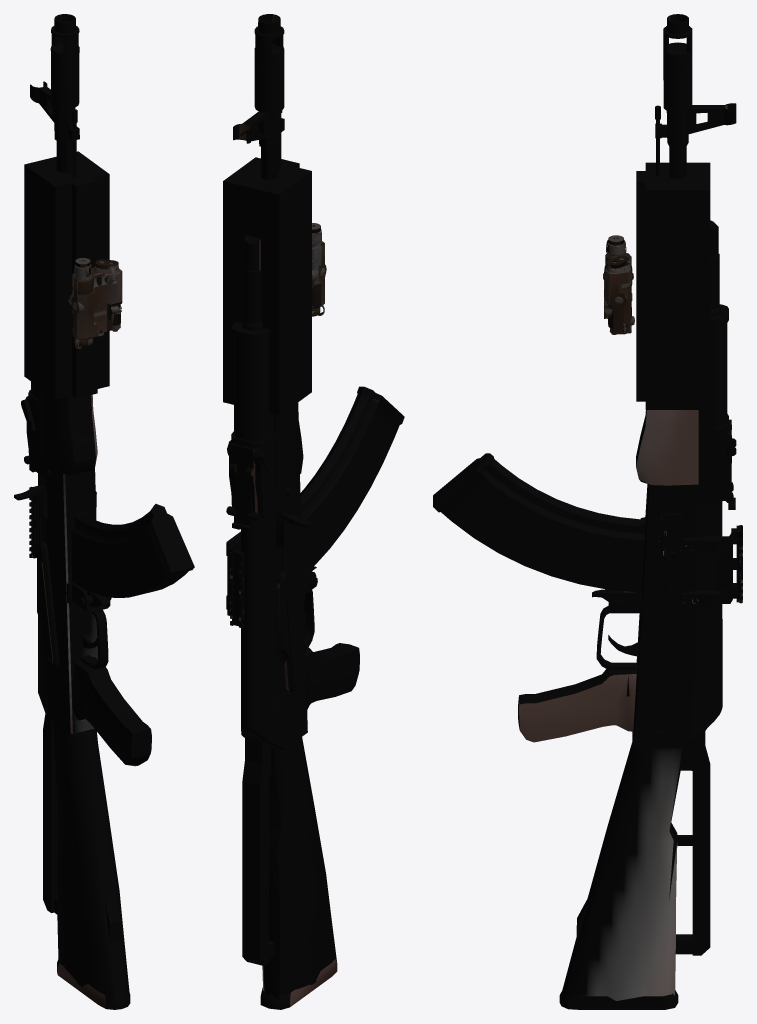
File: AK74__Handguard_AK_Quad__Laser_Rifle__Mount_AK_SideRail__Stock_AK_Folding.fbx
The picture shows the model from 3 angles, left to right: view 1: azimuth 30°, elevation 25°; view 2: azimuth 150°, elevation 25°; view 3: azimuth 270°, elevation 25°; orthographic projection. The views are drawn at different scales.
Parts seen in each view (by area): view 1: asset_AK74.001; view 2: asset_AK74.001; view 3: asset_AK74.001.
Boxes of the visible parts, bbox=[...] form: asset_AK74.001: bbox=[14, 14, 194, 1009]; asset_AK74.001: bbox=[223, 14, 404, 1009]; asset_AK74.001: bbox=[433, 14, 742, 1009].
Size of the model in its own units: 0.046 by 0.564 by 0.1608.
